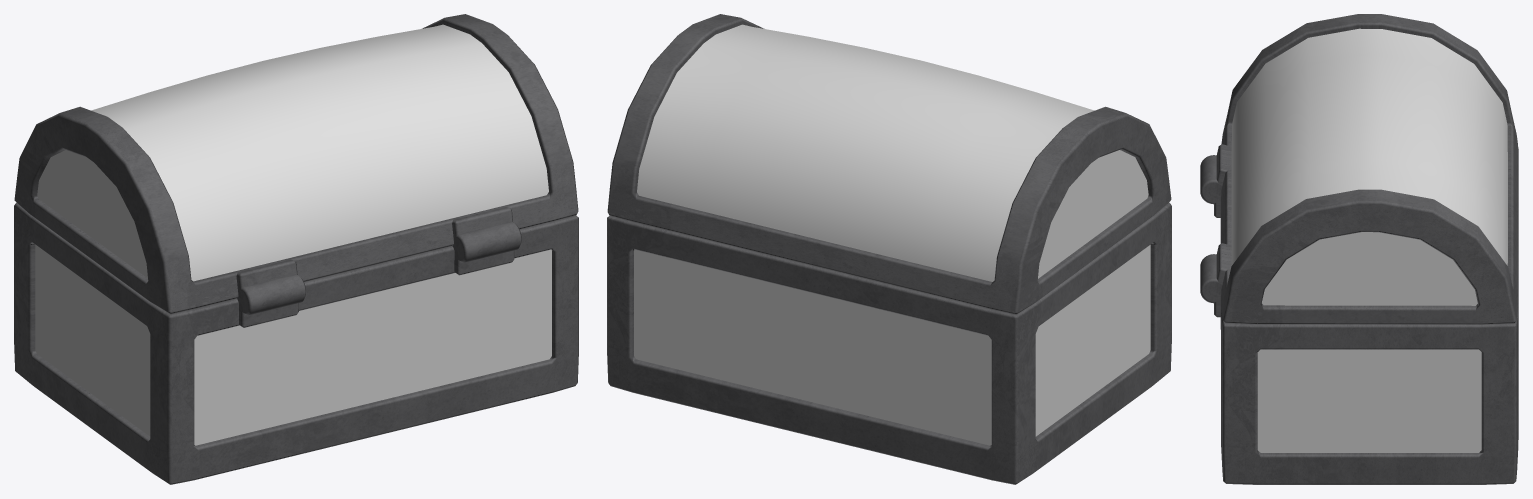
The model's file is chest.fbx.
3 views of the same model, side by side, from view 1: azimuth 30°, elevation 25°; view 2: azimuth 150°, elevation 25°; view 3: azimuth 270°, elevation 25° (orthographic). The views are drawn at different scales.
Visible parts, largest first — view 1: Cube.002, Cube; view 2: Cube.002, Cube; view 3: Cube.002, Cube.
Part boxes in pixels (x1=…): Cube.002: x1=14, y1=14, x2=578, y2=314; Cube: x1=14, y1=202, x2=578, y2=484; Cube.002: x1=607, y1=14, x2=1171, y2=314; Cube: x1=607, y1=202, x2=1171, y2=484; Cube.002: x1=1216, y1=14, x2=1517, y2=324; Cube: x1=1200, y1=147, x2=1518, y2=484.
Bounding box in the file's own units: 315 × 223 × 223.
